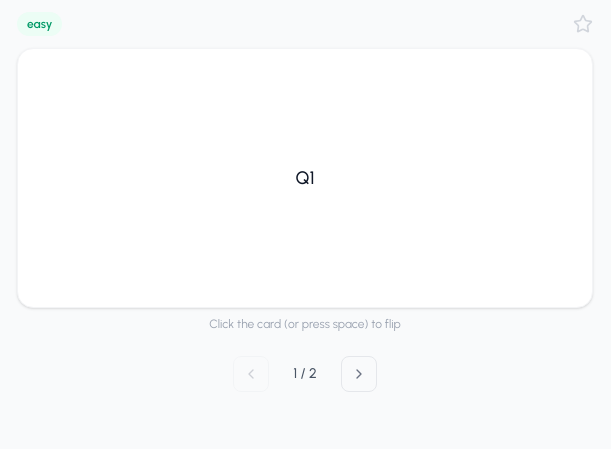
it: FlashcardViewer › shows the question first, flips to the answer on click, without reviewing yet
Expected: the text "Q1" is shown, 295,164 -> 314,192
Click the button "Q1".
click(305, 178)  # box 17,48 -> 593,308
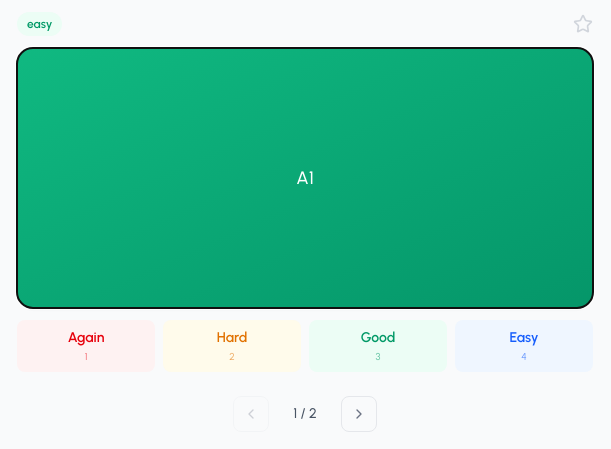
Expected: the text "A1" is shown, 296,164 -> 314,192
